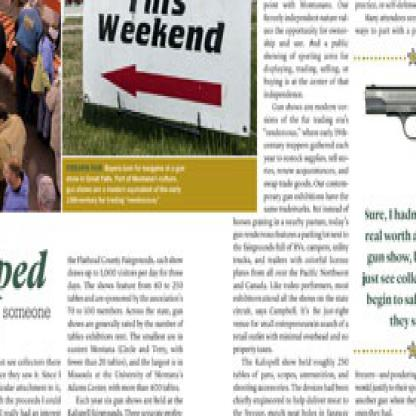gun: (361, 82, 415, 199)
